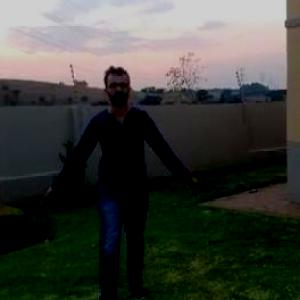land: (38, 64, 195, 299)
